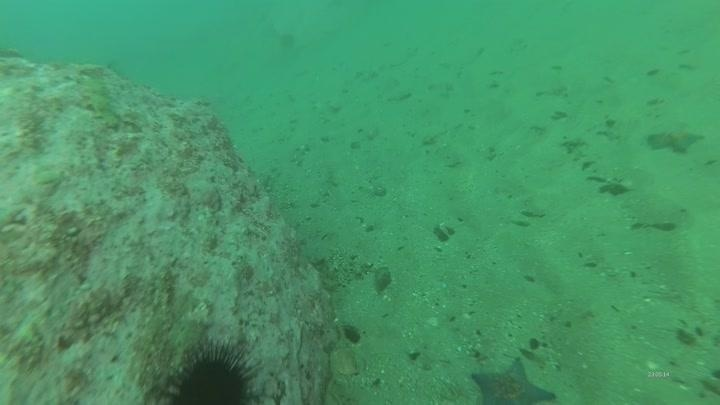echinus: (164, 341, 259, 404)
holothurian: (76, 71, 124, 133)
starfish: (468, 355, 559, 403), (645, 124, 707, 157)
